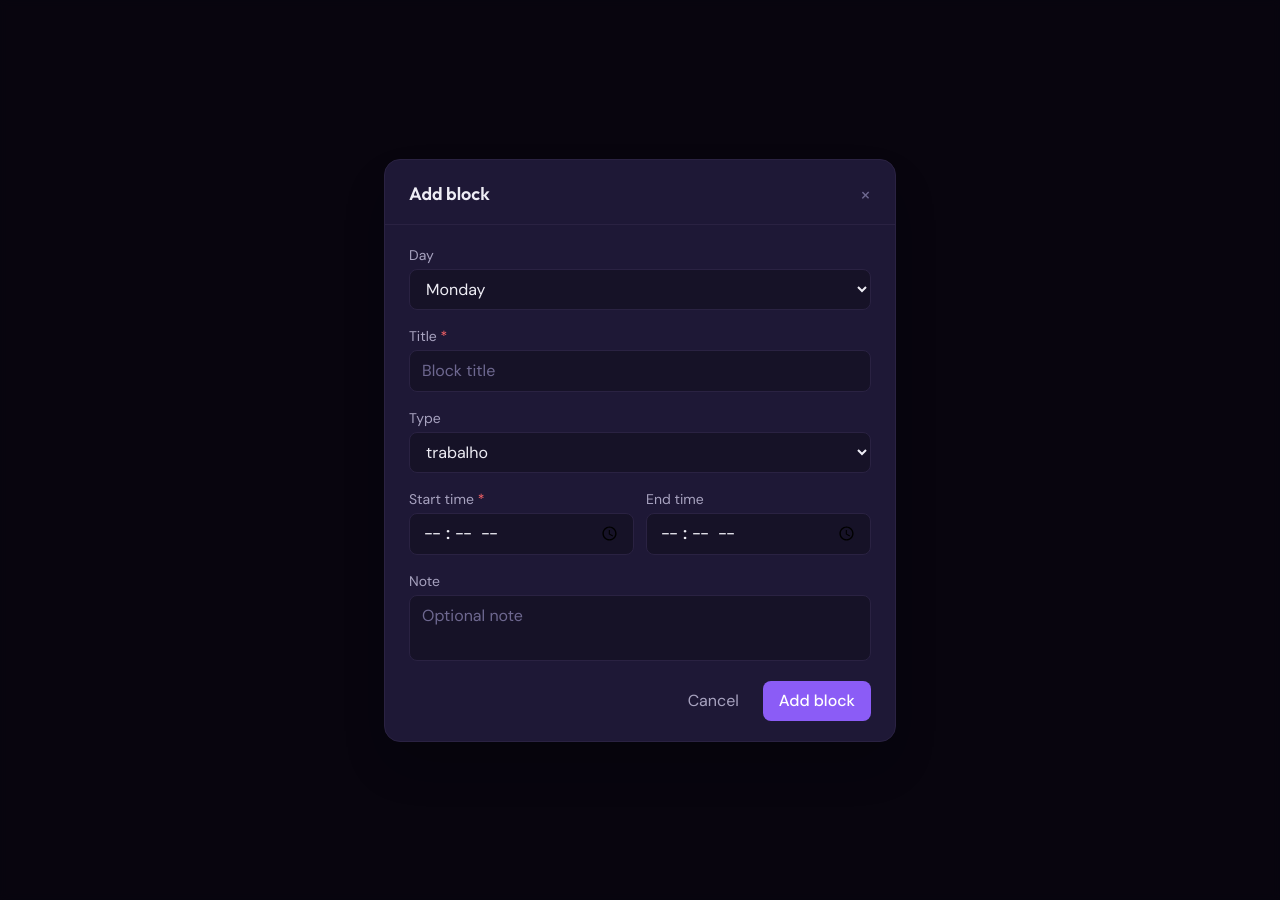
Test case: BlockModal › shows validation error when title is missing
# Start time only, no title
Type "08:00" into the time field labelled "Start time *".
click(522, 534); type("08:00")  # box [409,512,634,554]
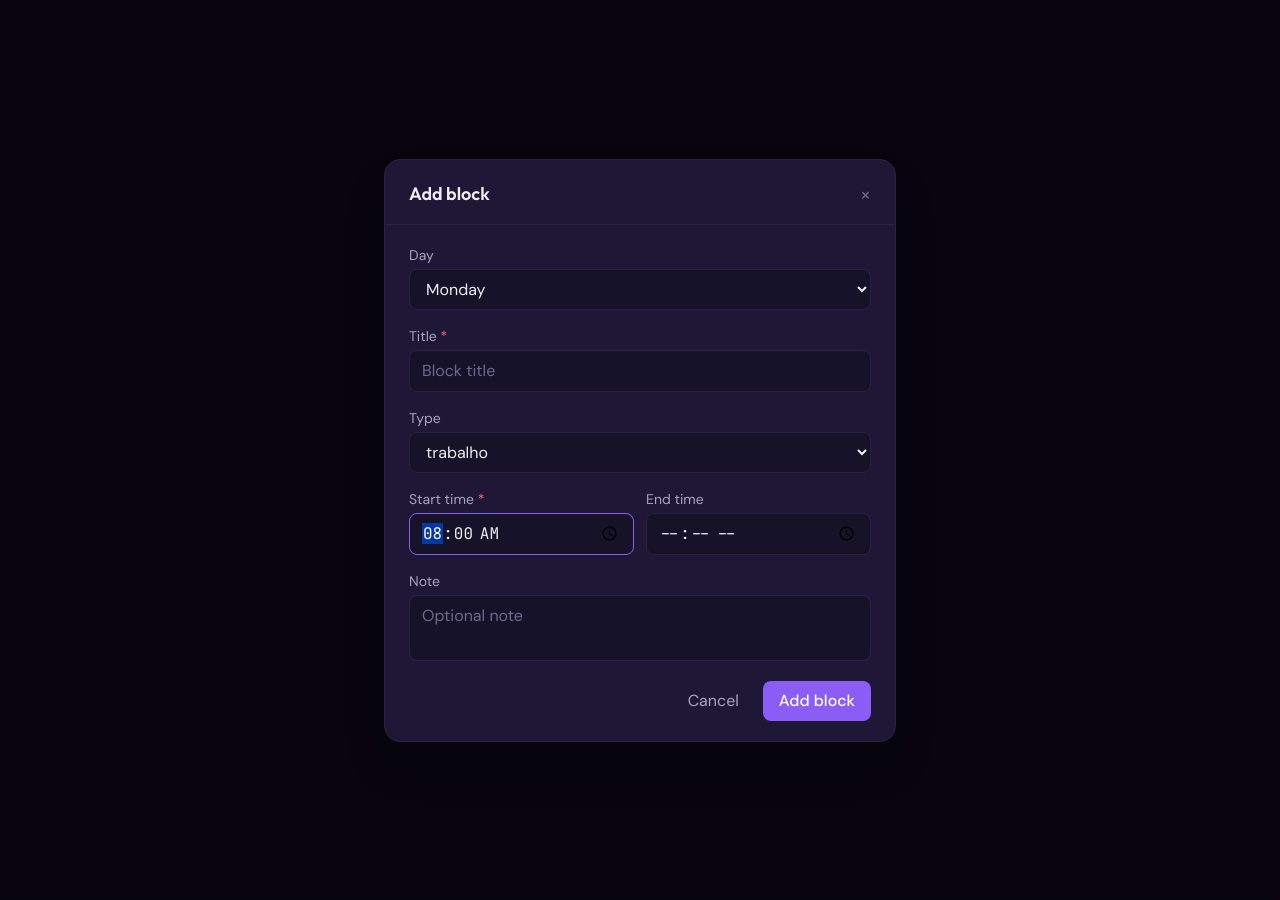
Click the button "Add block".
click(817, 700)  # box [763,680,871,720]
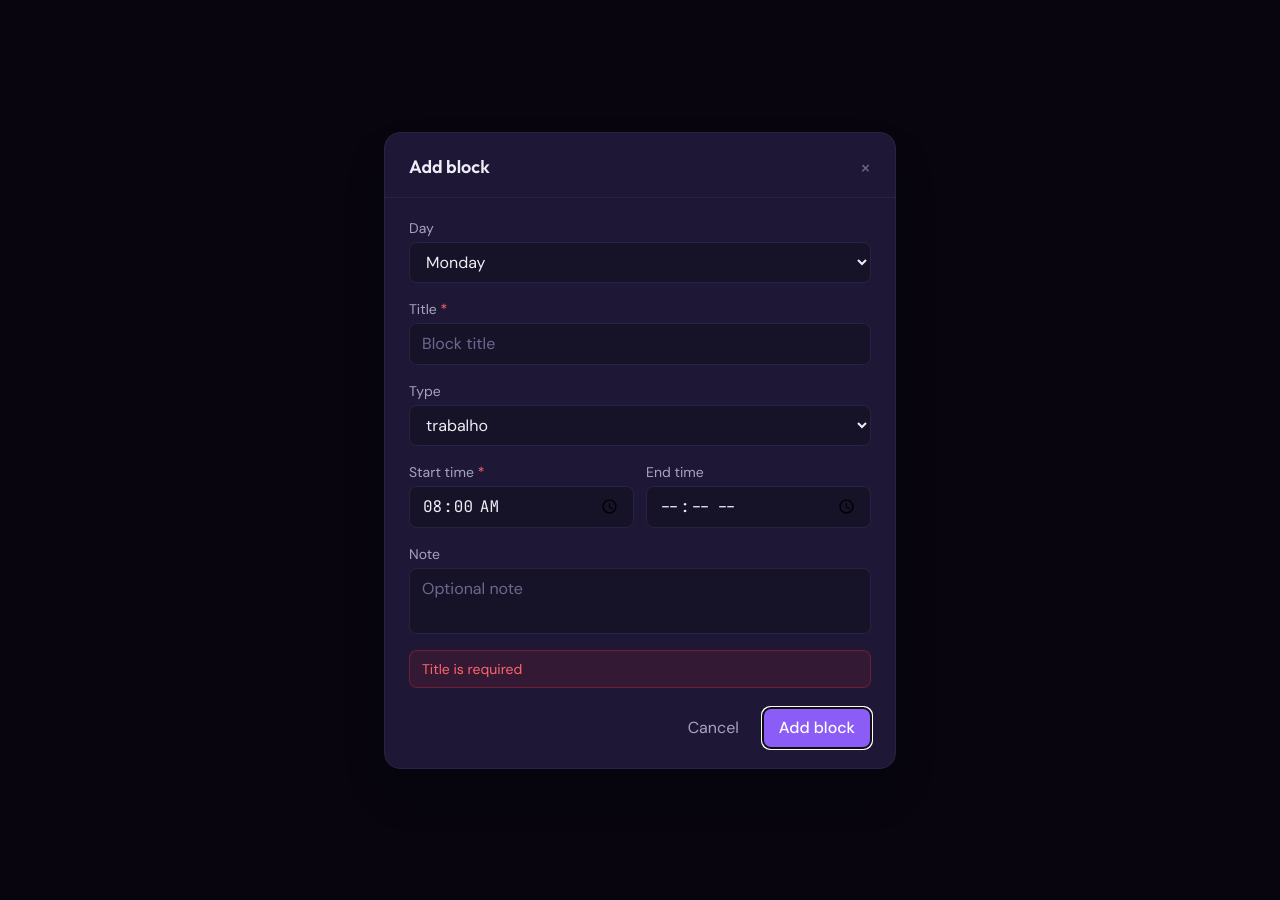
expect the message reads "Title is required": met, box [422,660,522,678]
